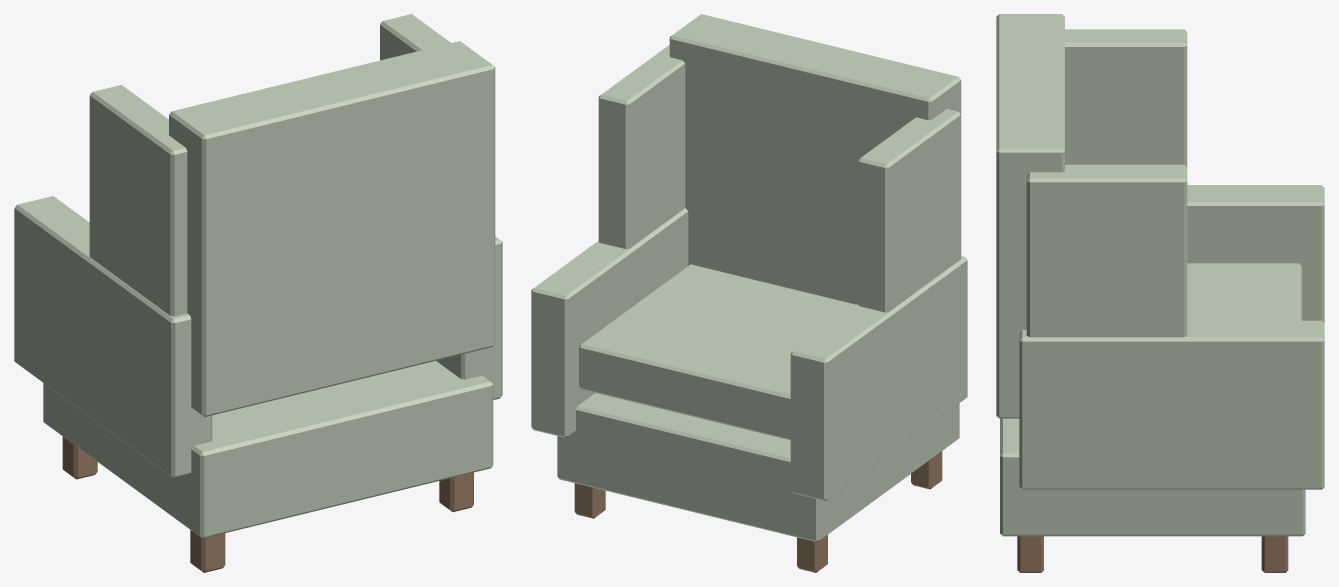
Rendered from SM_Armchair_02.fbx.
3 renders of one model, left to right at view 1: azimuth 30°, elevation 25°; view 2: azimuth 150°, elevation 25°; view 3: azimuth 270°, elevation 25°, orthographic. The views are drawn at different scales.
Parts seen in each view (by area): view 1: Armchair_02; view 2: Armchair_02; view 3: Armchair_02.
Part boxes in pixels (box(x1,y1,x2,y2)): Armchair_02: box(14, 14, 502, 572); Armchair_02: box(531, 14, 967, 572); Armchair_02: box(996, 14, 1324, 572).
Size of the model in its own units: 96 by 124 by 86.
